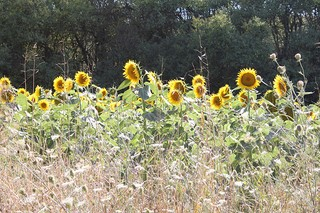flower: (235, 66, 263, 92), (120, 59, 142, 85), (271, 75, 290, 99), (73, 70, 93, 91), (166, 90, 183, 107), (168, 79, 186, 95), (209, 93, 225, 110), (52, 75, 66, 94), (190, 73, 206, 89), (218, 85, 233, 102), (193, 83, 205, 98), (37, 99, 49, 112)
